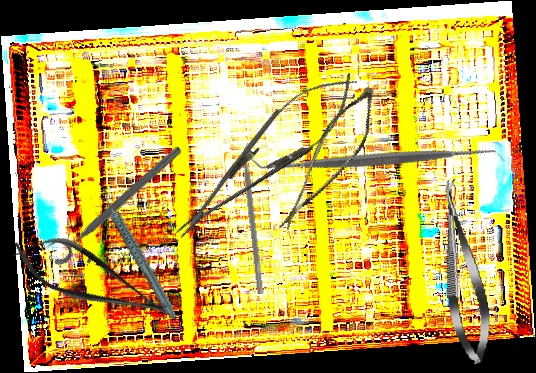Fixation Ring: (40, 135, 187, 270)
Handpiece: (103, 182, 178, 328)
Micro Scissor: (2, 218, 189, 344), (277, 75, 384, 249), (429, 176, 497, 367)
Needle Holder: (159, 56, 371, 256)
Spatula Surgical: (249, 31, 505, 287), (238, 142, 271, 295)
